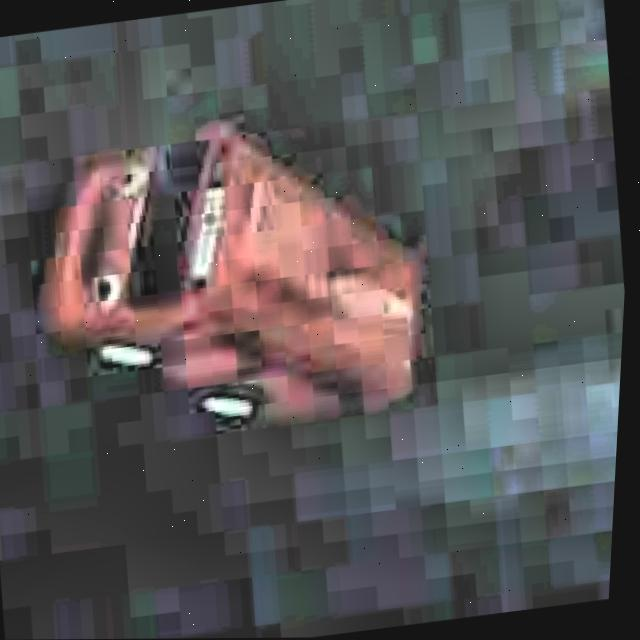bus: (0, 79, 462, 470)
